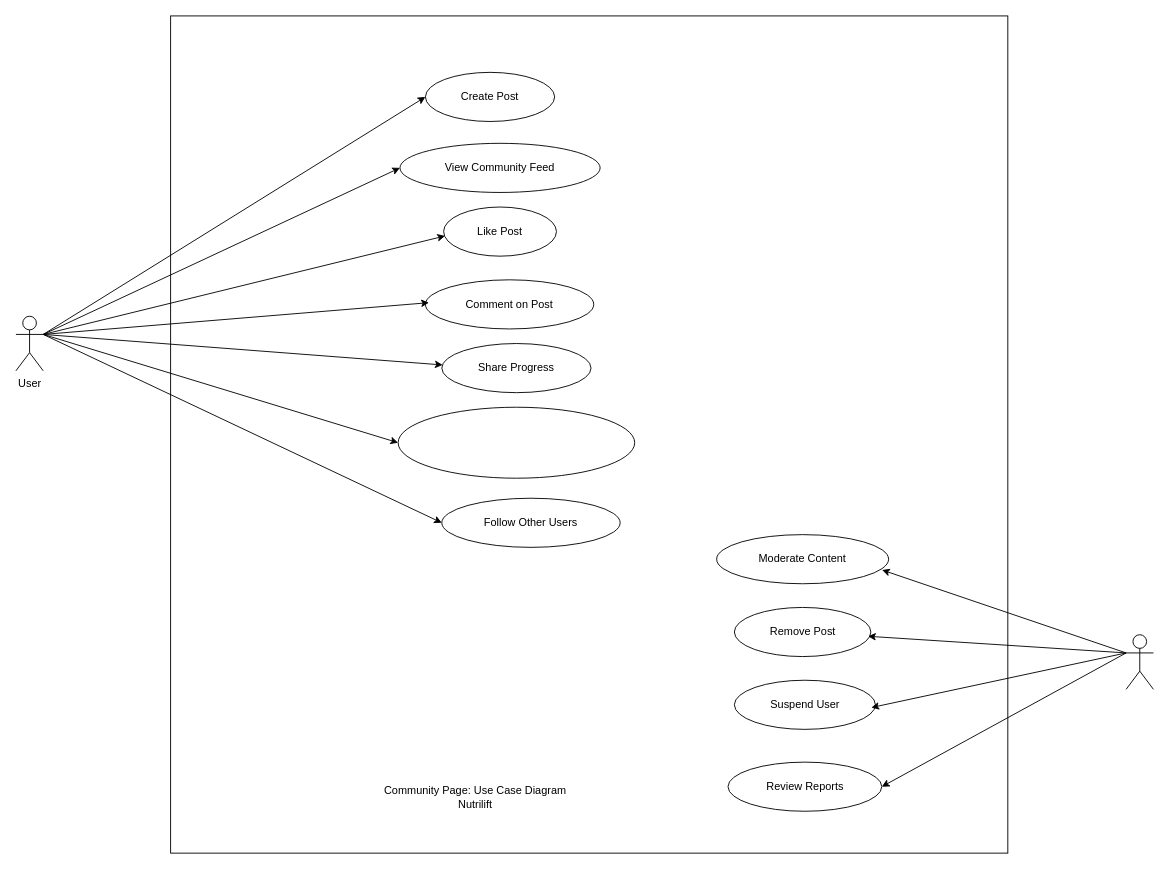
This 1171x869 diagram has some shape labels left out. The shapes that lost their labels are listed below. From the top down, each one's centre as x and y in pixels, then its label:
(x=516, y=442): Report Inappropriate Content
(x=1139, y=661): Admin
